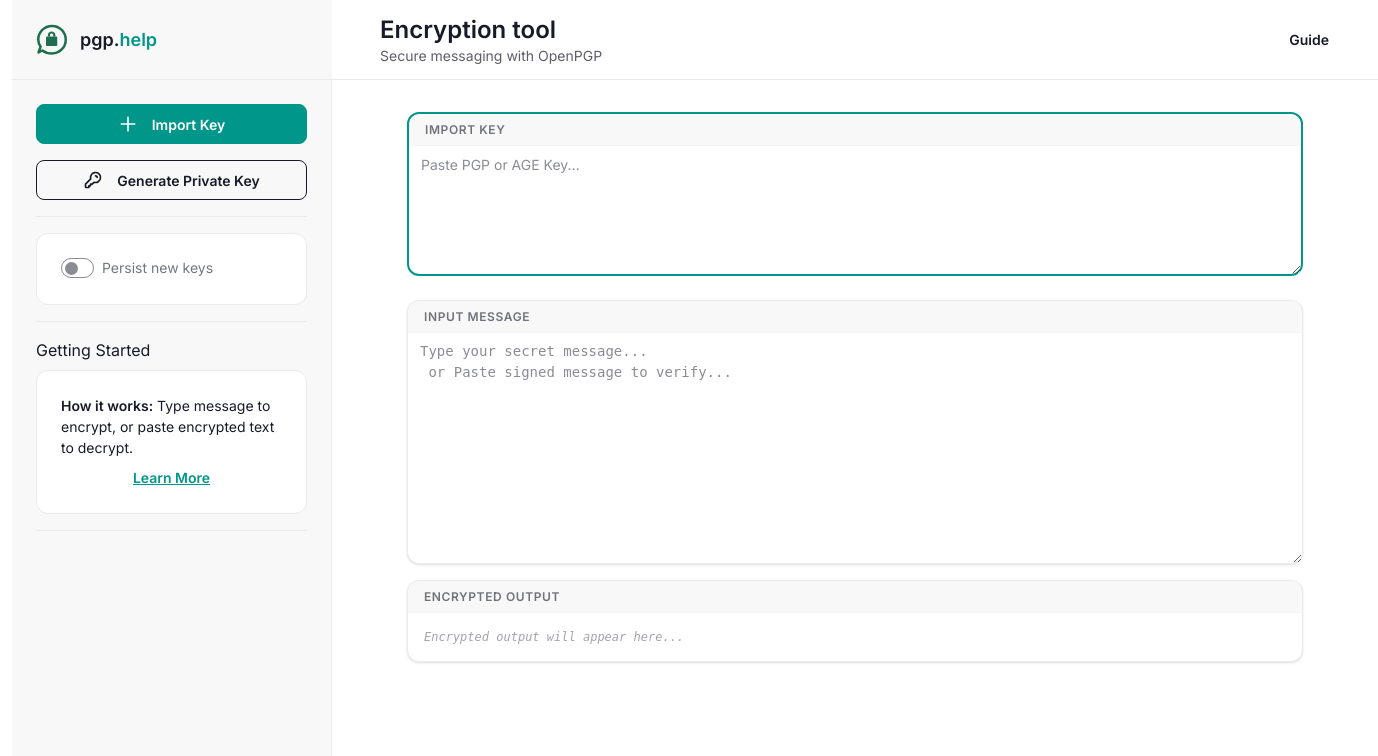
Test: Routing › navigates to Guide page when clicking Guide link
The width and height of the screenshot is (1378, 756).
Expected: the text box with placeholder "Paste PGP or AGE Key..." is shown, [409,146,1301,274]
Expected: the text "What is PGP?" is not shown
// Click Guide button (it's a button now, not a link)
Click the button "Guide": (1309, 40) [1272,20,1346,60]
(page scrolled)
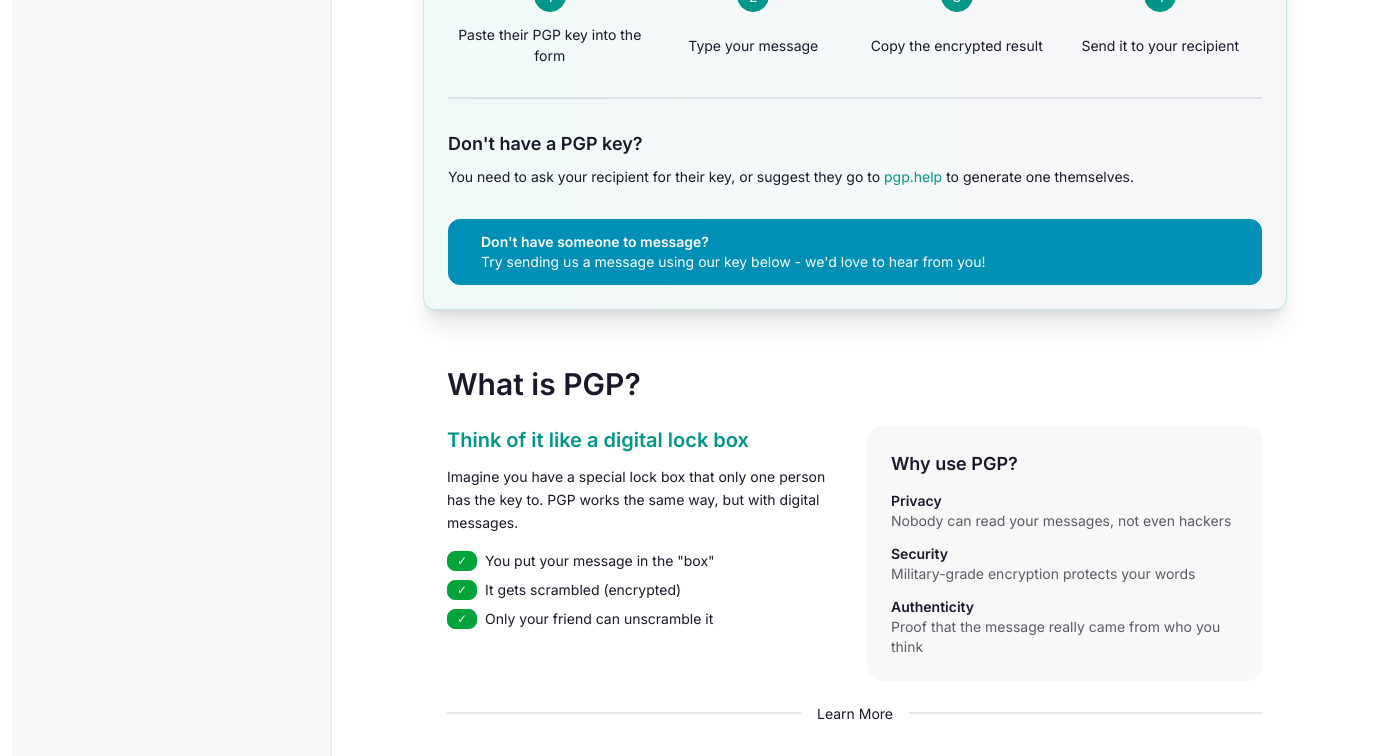
Expected: the field with placeholder "Paste PGP or AGE Key" is not shown
Expected: the heading "What is PGP?" is shown, [447,366,641,402]
